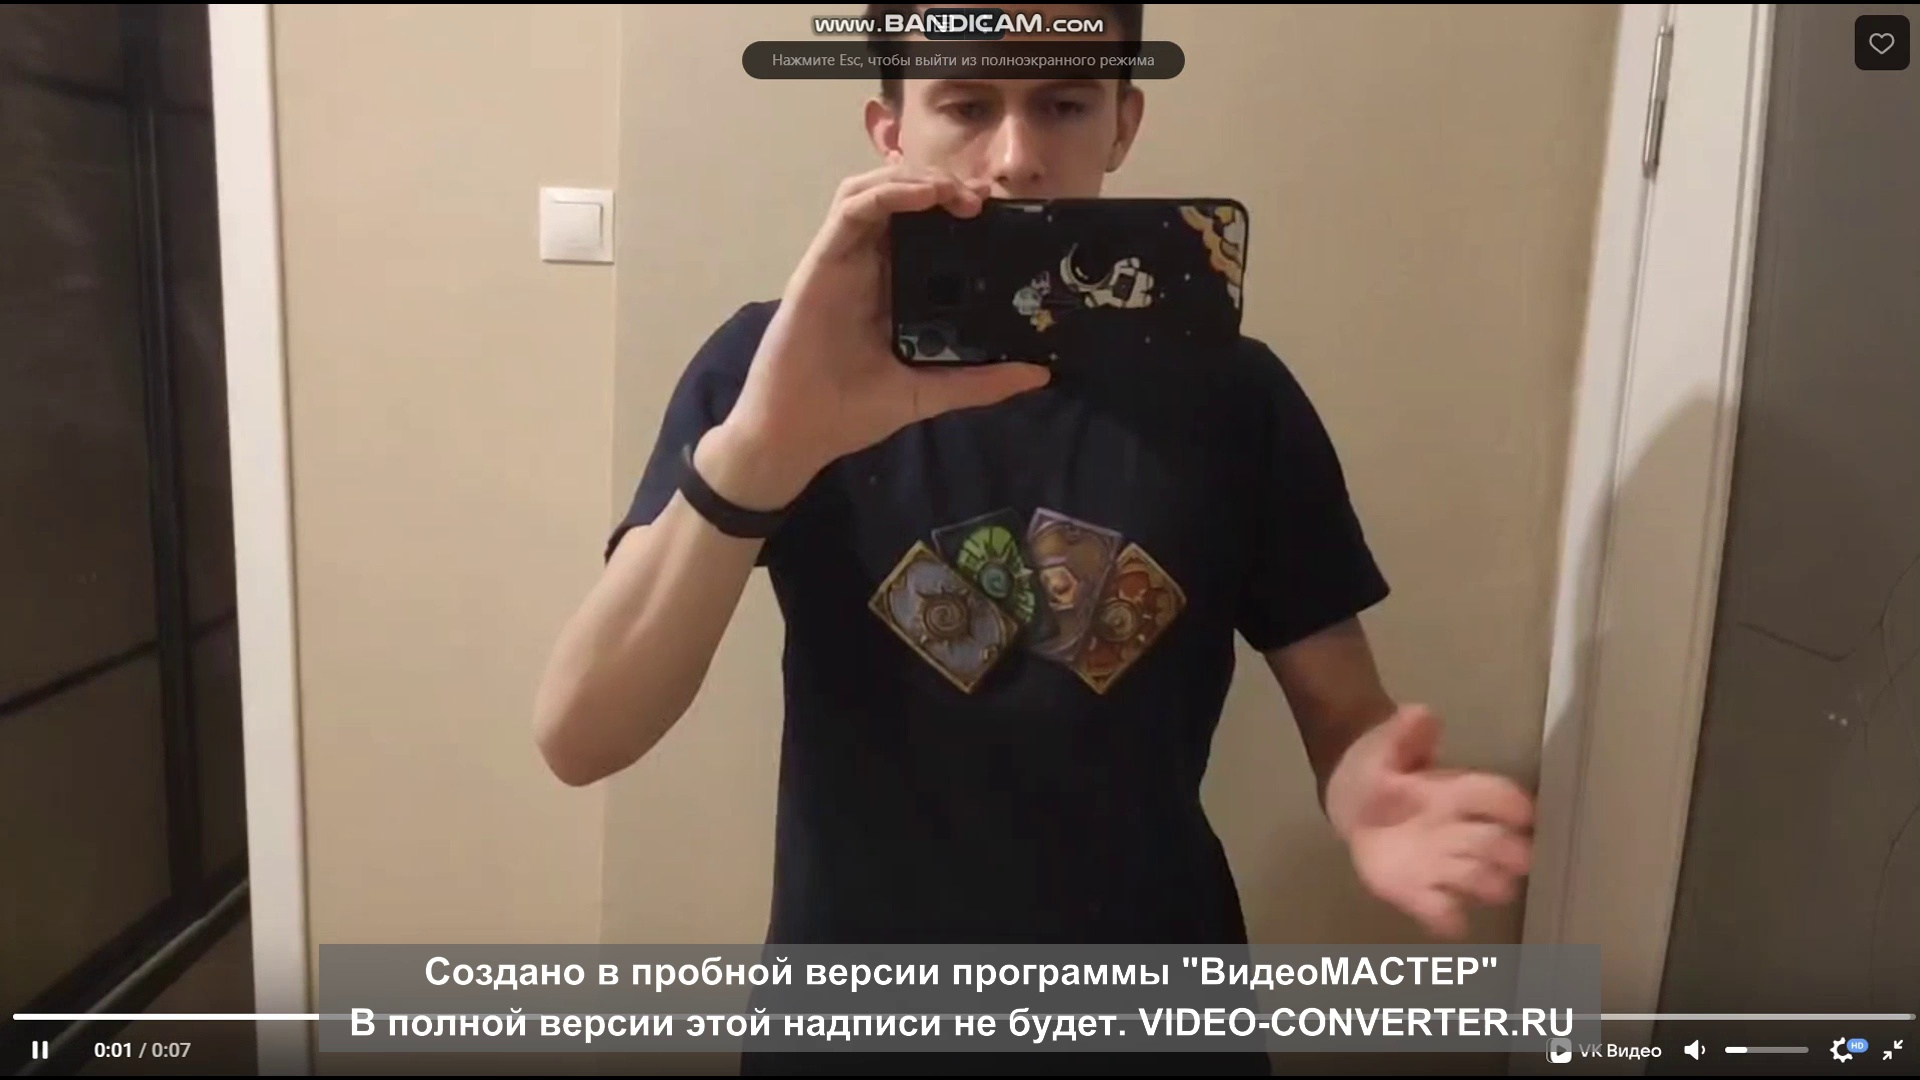Ладонь: (1341, 703, 1534, 939)
